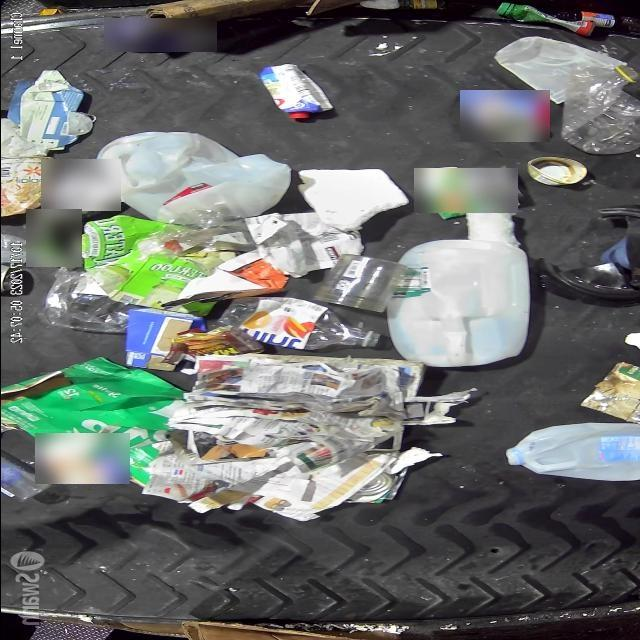milk_jug: (385, 238, 530, 368), (95, 130, 292, 224), (502, 423, 638, 480)
plastic_bottle: (216, 296, 382, 350), (558, 64, 640, 156)
